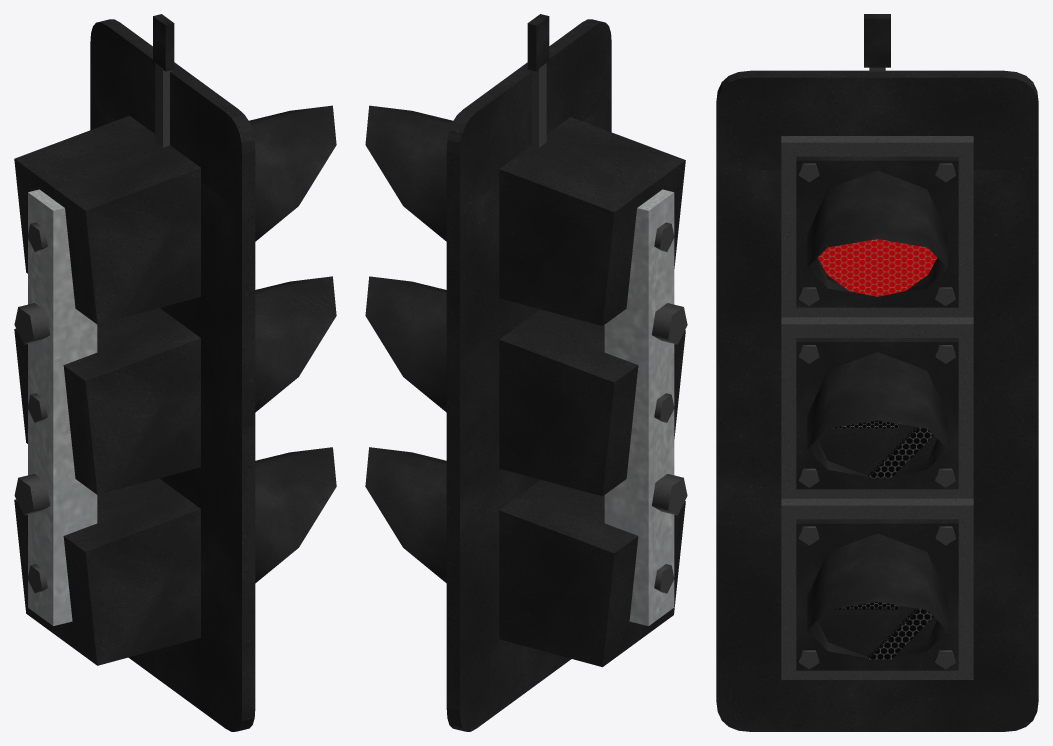
The model's file is GSDTrafficLightRight.FBX.
3 views of the same model, side by side, from view 1: azimuth 30°, elevation 25°; view 2: azimuth 150°, elevation 25°; view 3: azimuth 270°, elevation 25° (orthographic). The views are drawn at different scales.
Visible parts, largest first — view 1: LightBase; view 2: LightBase; view 3: LightBase, Lights.
Part boxes in pixels (left/top/right/bottom): LightBase: left=14, top=14, right=336, bottom=731; LightBase: left=365, top=14, right=687, bottom=731; LightBase: left=716, top=14, right=1038, bottom=731; Lights: left=817, top=239, right=937, bottom=659.
Size of the model in its own units: 0.7001 by 0.596 by 1.44.
